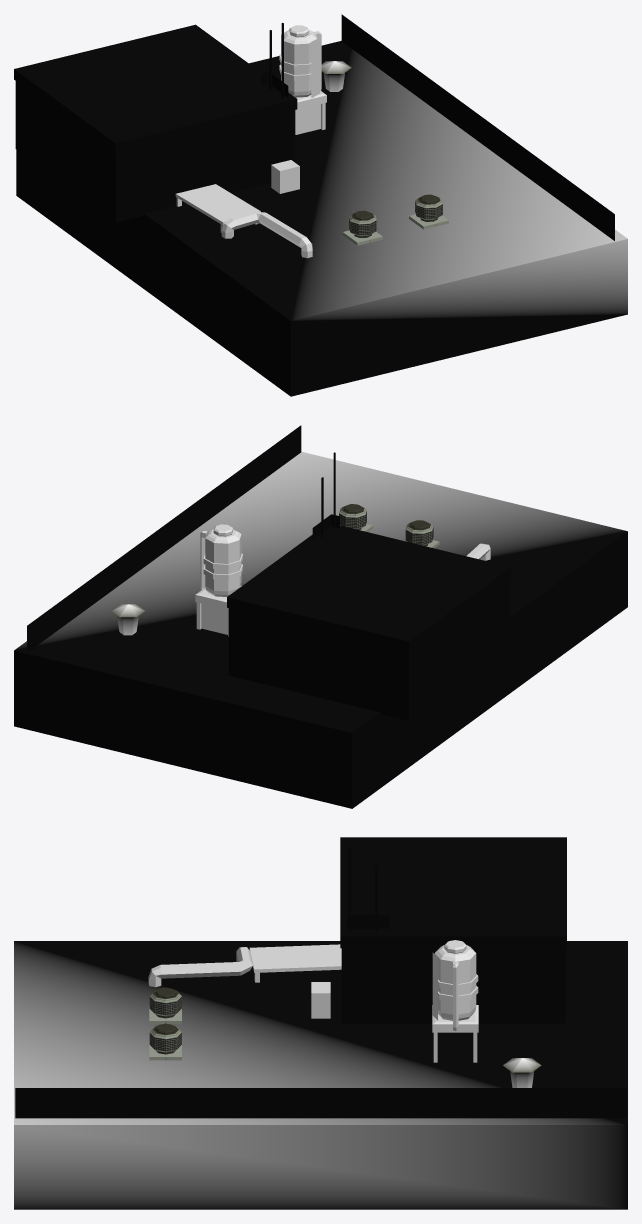
Rendered from ranna model menu.fbx.
The picture shows the model from 3 angles, top to bottom: view 1: azimuth 30°, elevation 25°; view 2: azimuth 150°, elevation 25°; view 3: azimuth 270°, elevation 25°; orthographic projection. The views are drawn at different scales.
Parts seen in each view (by area): view 1: Cube, SlideObs5 (Tank2).001, SlideObs4 (Pipes).001, JumpObs3 (Air Diffuser 2).001, JumpObs3 (Air Diffuser 2), JumpObs2 (A.C), JumpObs1 (Air Diffuser); view 2: Cube, SlideObs5 (Tank2).001, JumpObs3 (Air Diffuser 2).001, JumpObs1 (Air Diffuser), JumpObs3 (Air Diffuser 2); view 3: Cube, SlideObs5 (Tank2).001, SlideObs4 (Pipes).001, JumpObs3 (Air Diffuser 2), JumpObs3 (Air Diffuser 2).001, JumpObs1 (Air Diffuser), JumpObs2 (A.C).
Boxes of the visible parts, x1,y1,x2,y2 form: Cube: (14, 14, 627, 396); SlideObs5 (Tank2).001: (279, 25, 326, 134); SlideObs4 (Pipes).001: (175, 184, 312, 258); JumpObs3 (Air Diffuser 2).001: (342, 210, 382, 245); JumpObs3 (Air Diffuser 2): (409, 194, 448, 229); JumpObs2 (A.C): (271, 160, 299, 193); JumpObs1 (Air Diffuser): (321, 61, 351, 91); Cube: (14, 425, 627, 808); SlideObs5 (Tank2).001: (195, 524, 242, 636); JumpObs3 (Air Diffuser 2).001: (405, 520, 439, 548); JumpObs1 (Air Diffuser): (111, 604, 144, 635); JumpObs3 (Air Diffuser 2): (339, 504, 373, 531); Cube: (14, 837, 627, 1209); SlideObs5 (Tank2).001: (432, 940, 478, 1062); SlideObs4 (Pipes).001: (148, 944, 341, 987); JumpObs3 (Air Diffuser 2): (149, 1023, 181, 1060); JumpObs3 (Air Diffuser 2).001: (149, 987, 181, 1024); JumpObs1 (Air Diffuser): (503, 1058, 541, 1087); JumpObs2 (A.C): (311, 982, 330, 1018).
Bounding box in the file's own units: 1015 × 606 × 1317.
